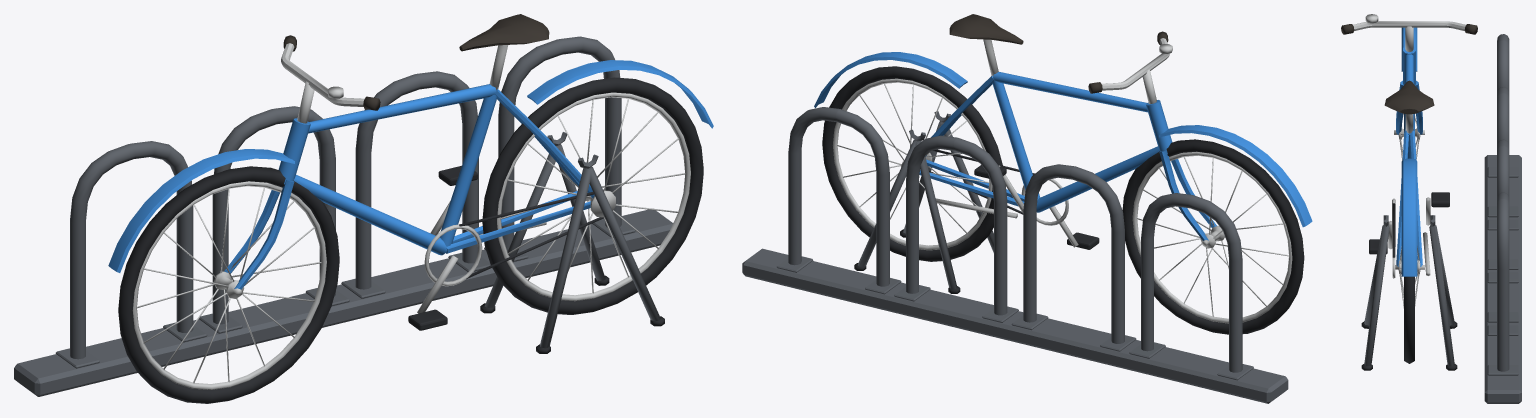
The model's file is bikeRack.glb.
3 views of the same model, side by side, from view 1: azimuth 30°, elevation 25°; view 2: azimuth 150°, elevation 25°; view 3: azimuth 270°, elevation 25° (orthographic). The views are drawn at different scales.
Parts seen in each view (by area): view 1: rack, bike, wheel_rear; view 2: rack, bike, wheel_rear; view 3: rack, bike, wheel_rear.
Part boxes in pixels (x1,y1,x2,y2): rack: (14, 36, 673, 396); bike: (108, 14, 713, 403); wheel_rear: (482, 77, 703, 314); rack: (742, 107, 1288, 403); bike: (814, 14, 1312, 334); wheel_rear: (822, 66, 1002, 261); rack: (1361, 34, 1521, 403); bike: (1341, 14, 1477, 278); wheel_rear: (1395, 246, 1424, 363).
Bounding box in the file's own units: 1.8 × 0.832 × 0.5794.
